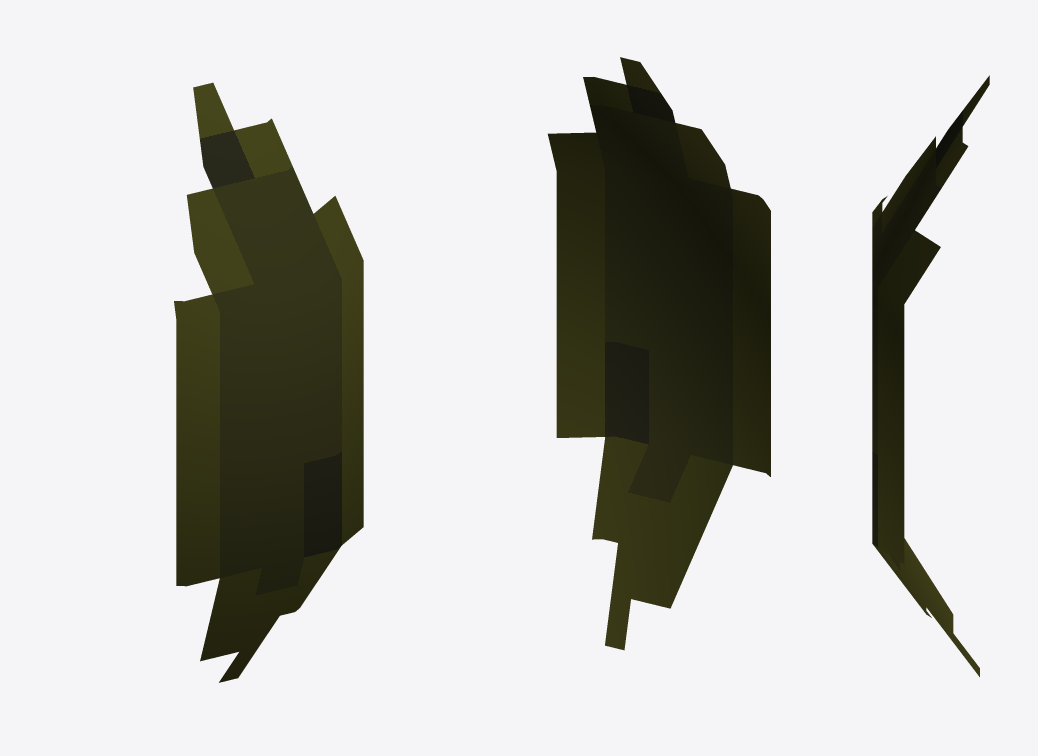
The model's file is ParticleLeave6.fbx.
3 views of the same model, side by side, from view 1: azimuth 30°, elevation 25°; view 2: azimuth 150°, elevation 25°; view 3: azimuth 270°, elevation 25° (orthographic). The views are drawn at different scales.
Visible parts, largest first — view 1: ParticleLeave6; view 2: ParticleLeave6; view 3: ParticleLeave6.
Part boxes in pixels (left/top/right/bottom): ParticleLeave6: left=174, top=82, right=363, bottom=682; ParticleLeave6: left=548, top=57, right=770, bottom=650; ParticleLeave6: left=872, top=75, right=989, bottom=676.
Size of the model in its own units: 0.0816 by 0.0273 by 0.1383.
